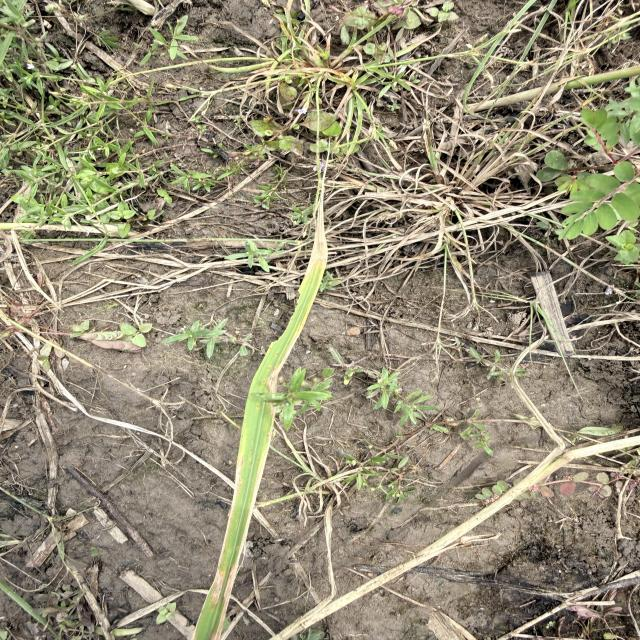Chay bia la: (262, 330, 305, 413), (305, 153, 331, 276)
